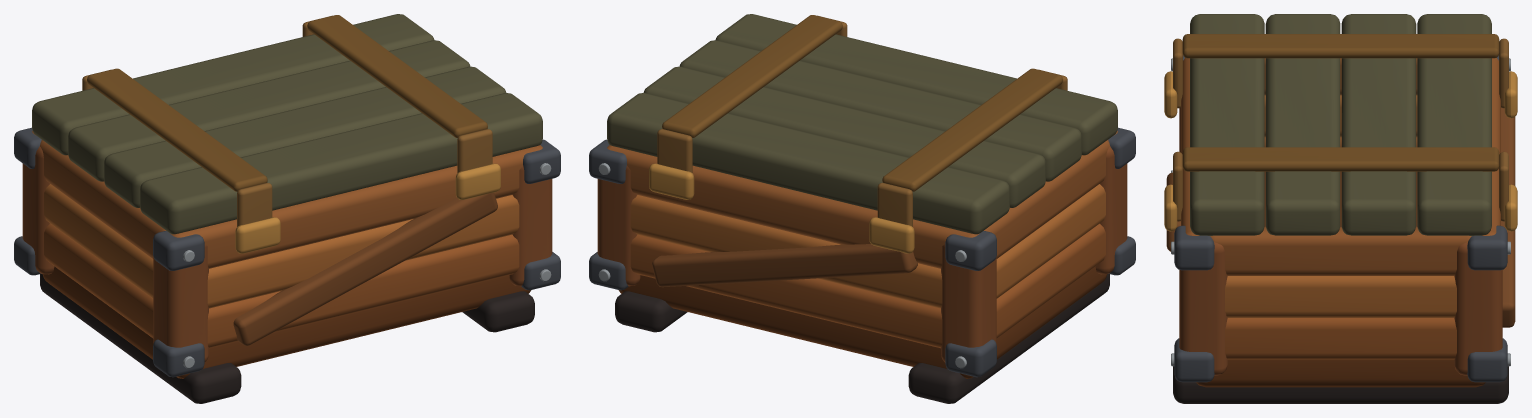
The model's file is cargo_crate.glb.
3 renders of one model, left to right at view 1: azimuth 30°, elevation 25°; view 2: azimuth 150°, elevation 25°; view 3: azimuth 270°, elevation 25°, orthographic. The views are drawn at different scales.
Parts seen in each view (by area): view 1: cargo_crate; view 2: cargo_crate; view 3: cargo_crate.
Part boxes in pixels (x1,y1,x2,y2): cargo_crate: [14, 14, 560, 403]; cargo_crate: [589, 14, 1135, 403]; cargo_crate: [1164, 14, 1517, 403].
Bounding box in the file's own units: 0.955 × 0.488 × 0.704.
